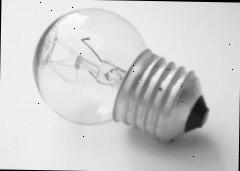lightbulb: (31, 5, 211, 142)
